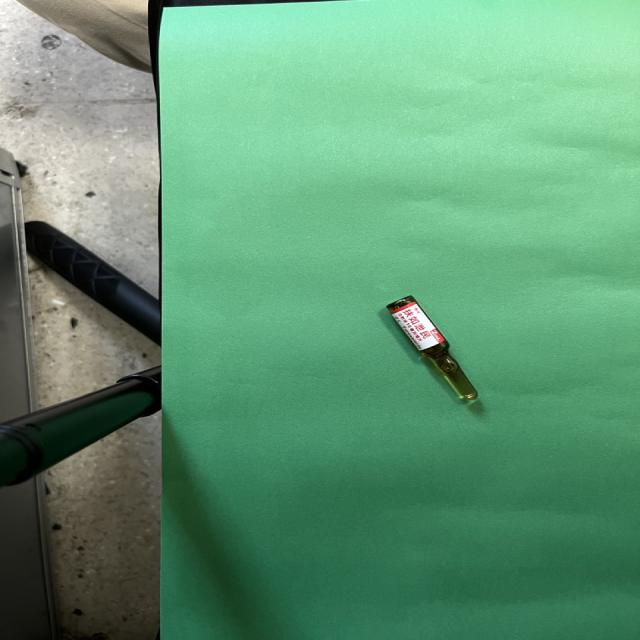Ampoules: (387, 296, 478, 400)
